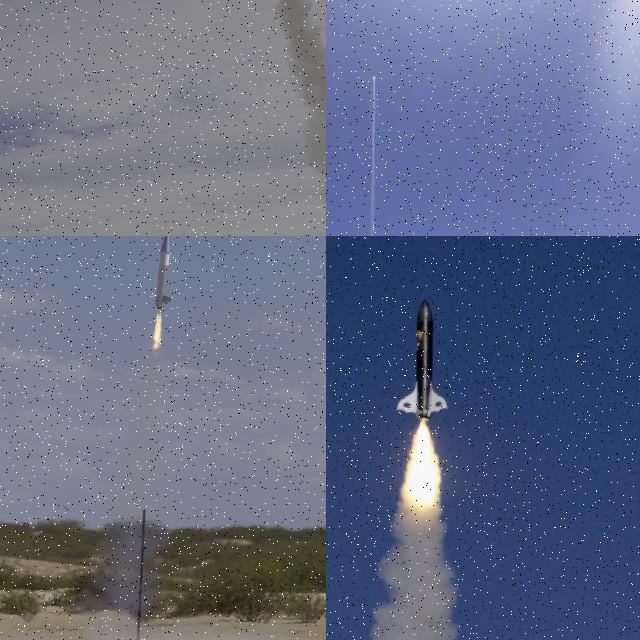Rocket: (396, 298, 450, 423), (147, 236, 174, 309), (372, 74, 377, 78)
